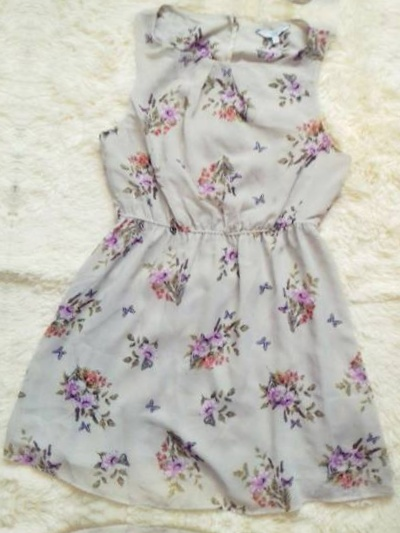Dress: (0, 0, 400, 530), (0, 0, 26, 493), (0, 511, 389, 533), (40, 0, 400, 23)
